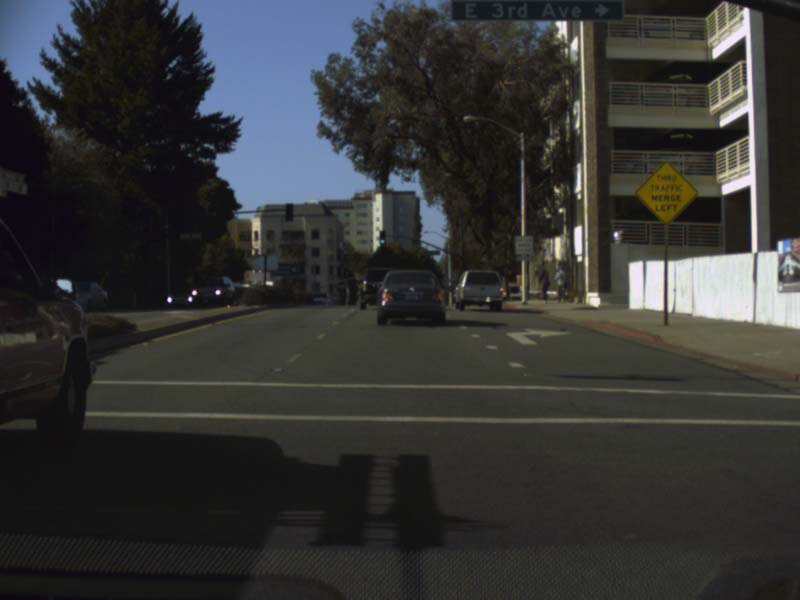Green: (380, 230, 385, 245)
